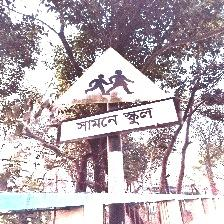School-in-front: (48, 47, 180, 143)
